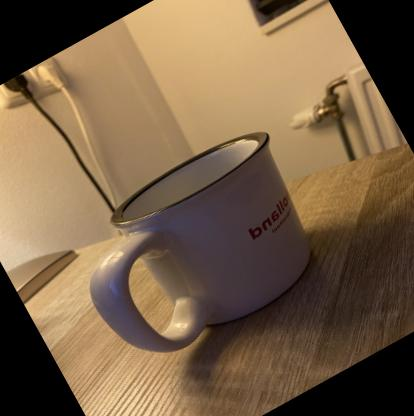Cup: (47, 113, 345, 384)
